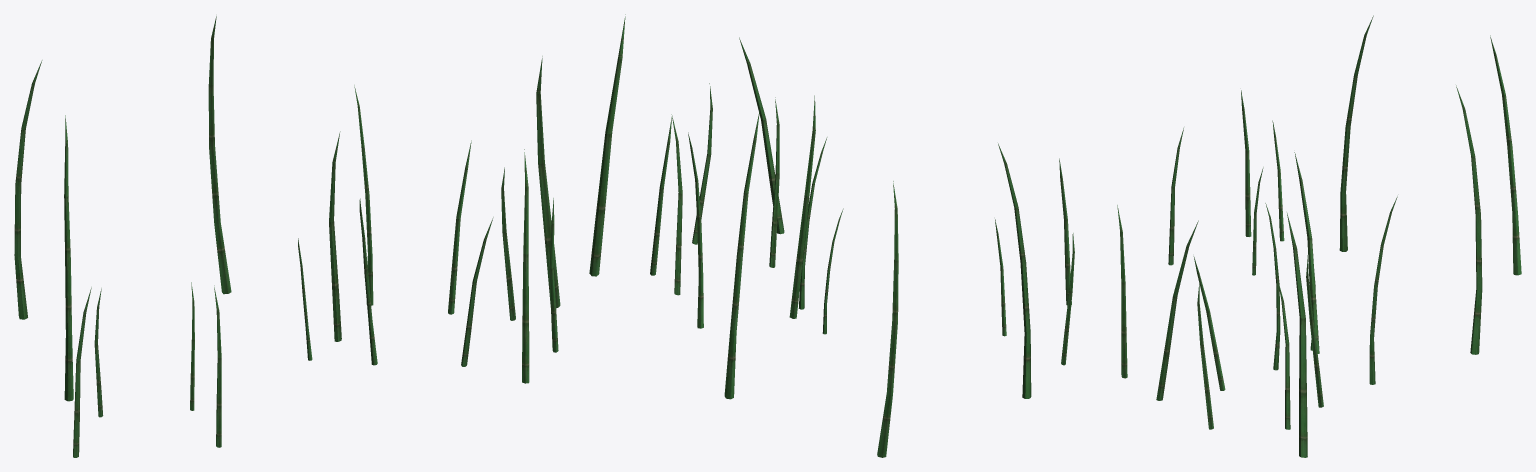
Rendered from Area_02_7.fbx.
3 views of the same model, side by side, from view 1: azimuth 30°, elevation 25°; view 2: azimuth 150°, elevation 25°; view 3: azimuth 270°, elevation 25° (orthographic). The views are drawn at different scales.
Parts seen in each view (by area): view 1: Area_02_7; view 2: Area_02_7; view 3: Area_02_7.
Boxes of the visible parts, <box> form: Area_02_7: <box>14,16,560,457</box>; Area_02_7: <box>589,14,1127,457</box>; Area_02_7: <box>1156,15,1521,457</box>.
Bounding box in the file's own units: 4116 × 2252 × 2812.
